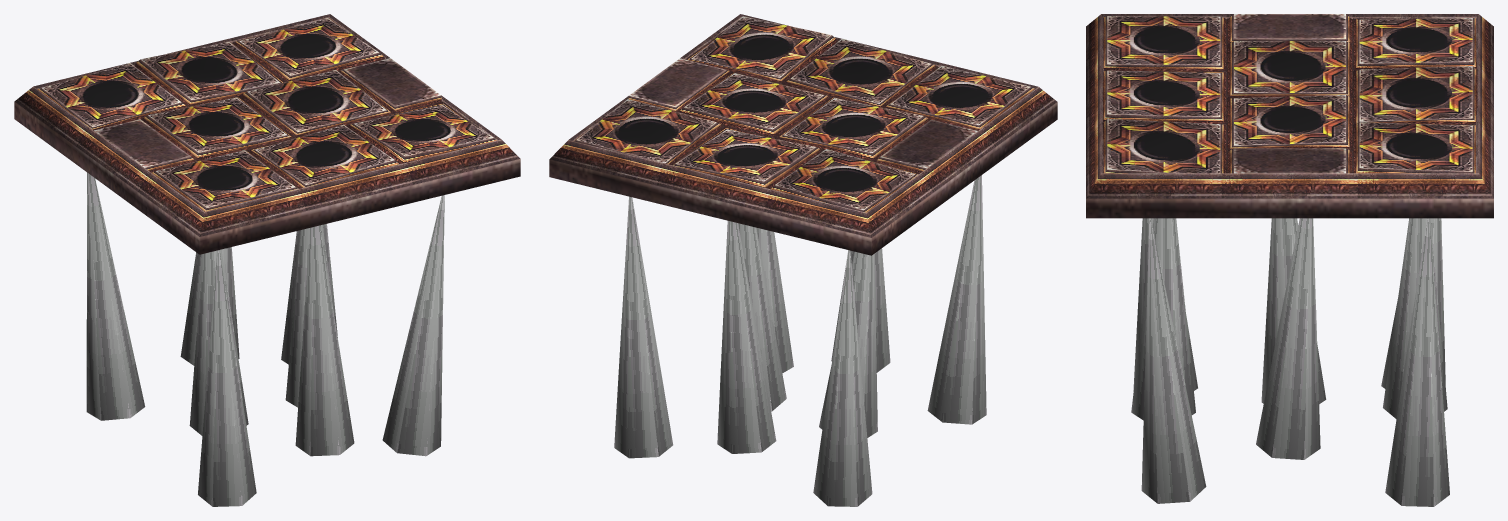
The model's file is SpikePanel.gltf.
3 views of the same model, side by side, from view 1: azimuth 30°, elevation 25°; view 2: azimuth 150°, elevation 25°; view 3: azimuth 270°, elevation 25° (orthographic). The views are drawn at different scales.
Parts seen in each view (by area): view 1: SpikePanel, Spikes; view 2: SpikePanel, Spikes; view 3: SpikePanel, Spikes.
Part boxes in pixels (x1,y1,x2,y2): SpikePanel: (14, 14, 520, 254); Spikes: (86, 172, 444, 506); SpikePanel: (549, 14, 1057, 255); Spikes: (614, 175, 986, 506); SpikePanel: (1086, 14, 1493, 218); Spikes: (1131, 218, 1449, 506).
Bounding box in the file's own units: 1.5 × 1.44 × 1.5.
2 materials, 2 textured.
